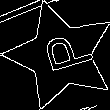P_W: (30, 30, 91, 80)
